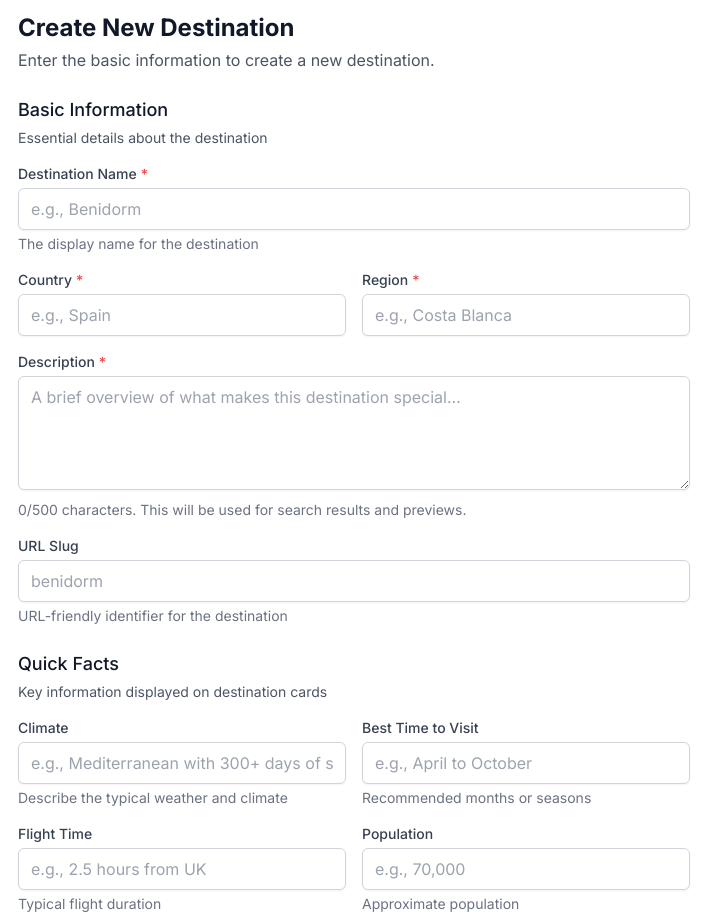
it: DestinationForm › Form Validation › shows character count for description
In the text box labelled "Description*": (354,433) [18,376,690,490], type "Test description"
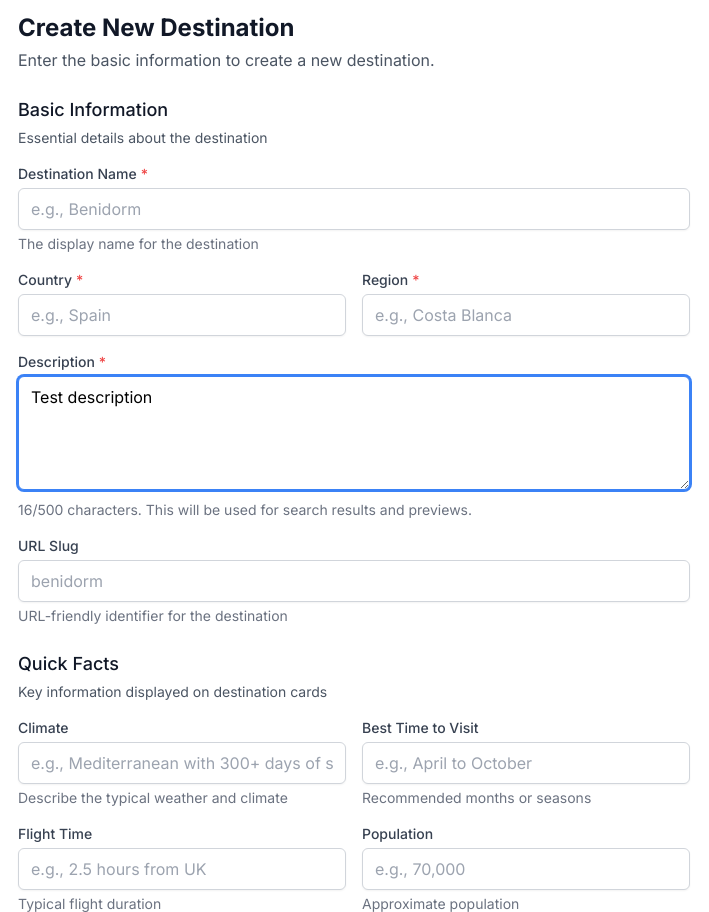
expect the text "16/500 characters" is shown: met, box [18,501,472,518]
